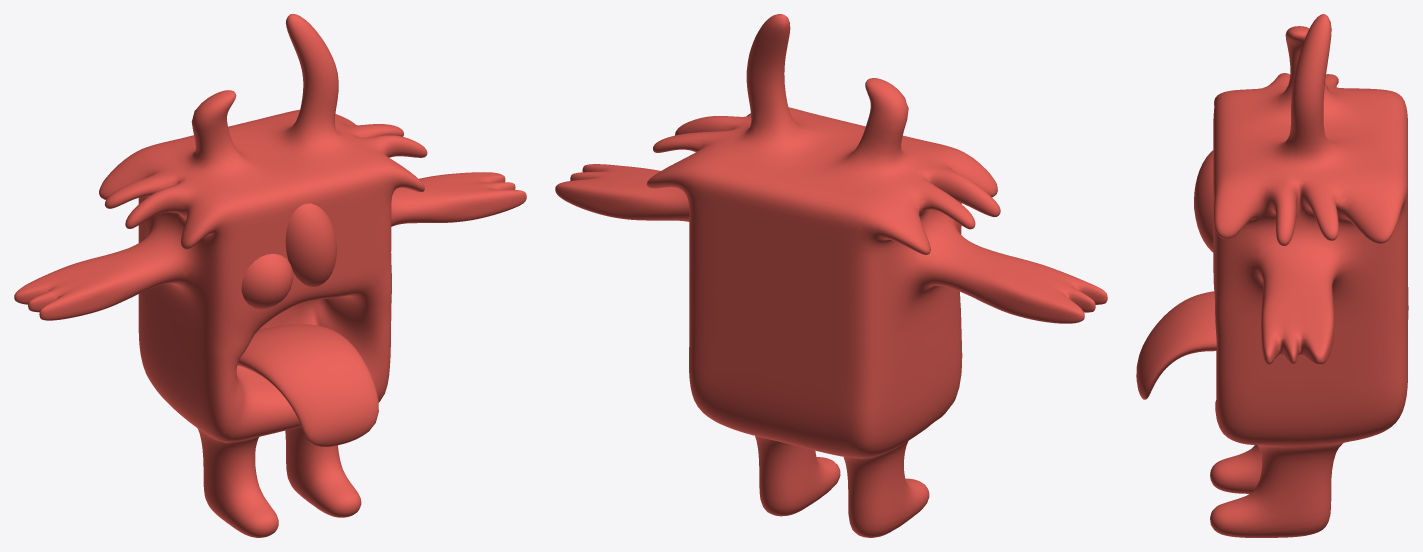
The model's file is monstr.fbx.
3 views of the same model, side by side, from view 1: azimuth 30°, elevation 25°; view 2: azimuth 150°, elevation 25°; view 3: azimuth 270°, elevation 25° (orthographic). The views are drawn at different scales.
Parts seen in each view (by area): view 1: Retopo_Cube.002; view 2: Retopo_Cube.002; view 3: Retopo_Cube.002.
Part boxes in pixels (bbox=[...]): Retopo_Cube.002: bbox=[14, 14, 526, 537]; Retopo_Cube.002: bbox=[555, 14, 1107, 537]; Retopo_Cube.002: bbox=[1136, 14, 1408, 537].
Bounding box in the file's own units: 784 × 722 × 345.
